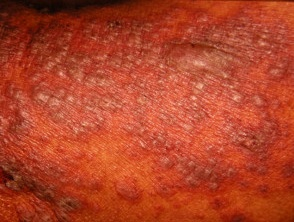SJS-TEN: (0, 4, 292, 222)
